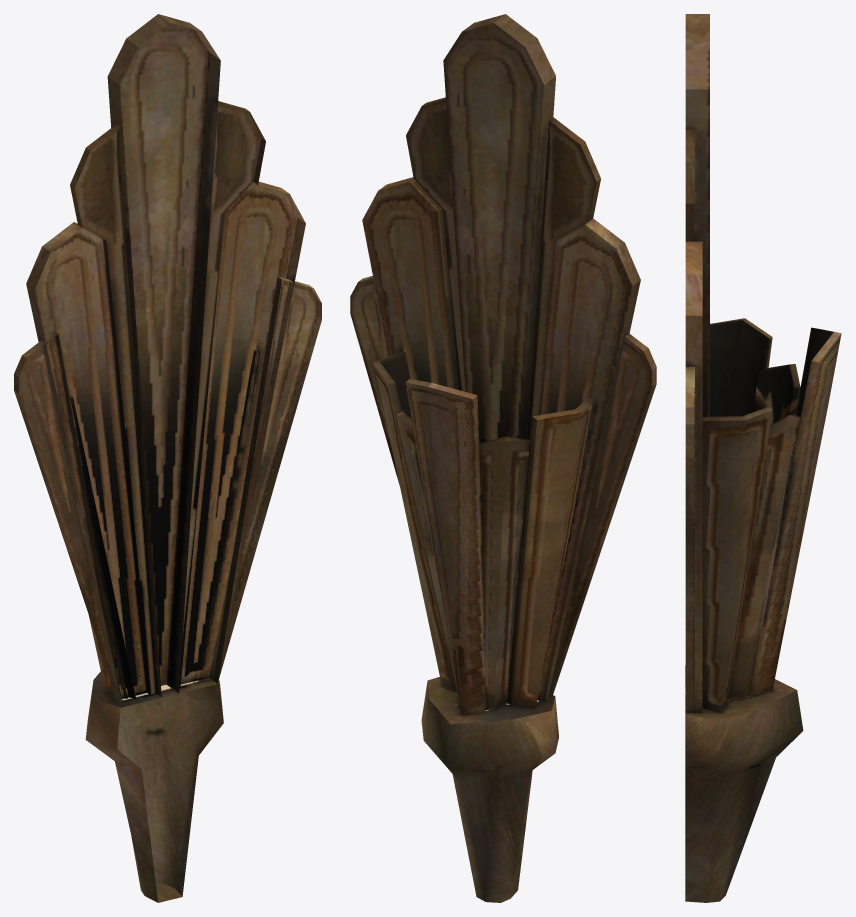
The model's file is light_sconce.obj.
The picture shows the model from 3 angles, left to right: view 1: azimuth 30°, elevation 25°; view 2: azimuth 150°, elevation 25°; view 3: azimuth 270°, elevation 25°; orthographic projection.
Visible parts, largest first — view 1: light_sconce; view 2: light_sconce; view 3: light_sconce.
Part boxes in pixels (left/top/right/bottom): light_sconce: left=14, top=14, right=321, bottom=902; light_sconce: left=350, top=14, right=656, bottom=902; light_sconce: left=685, top=14, right=841, bottom=902.
Size of the model in its own units: 38 by 105 by 16.86.
Materials: 1 (1 with a texture image).
